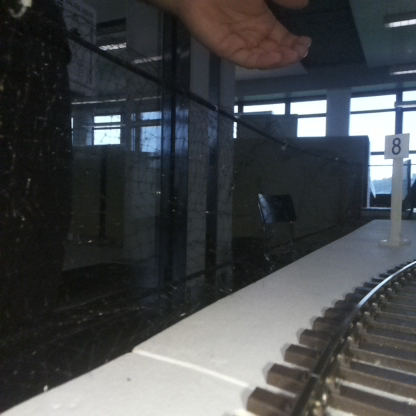white-info-8: (384, 133, 409, 244)
